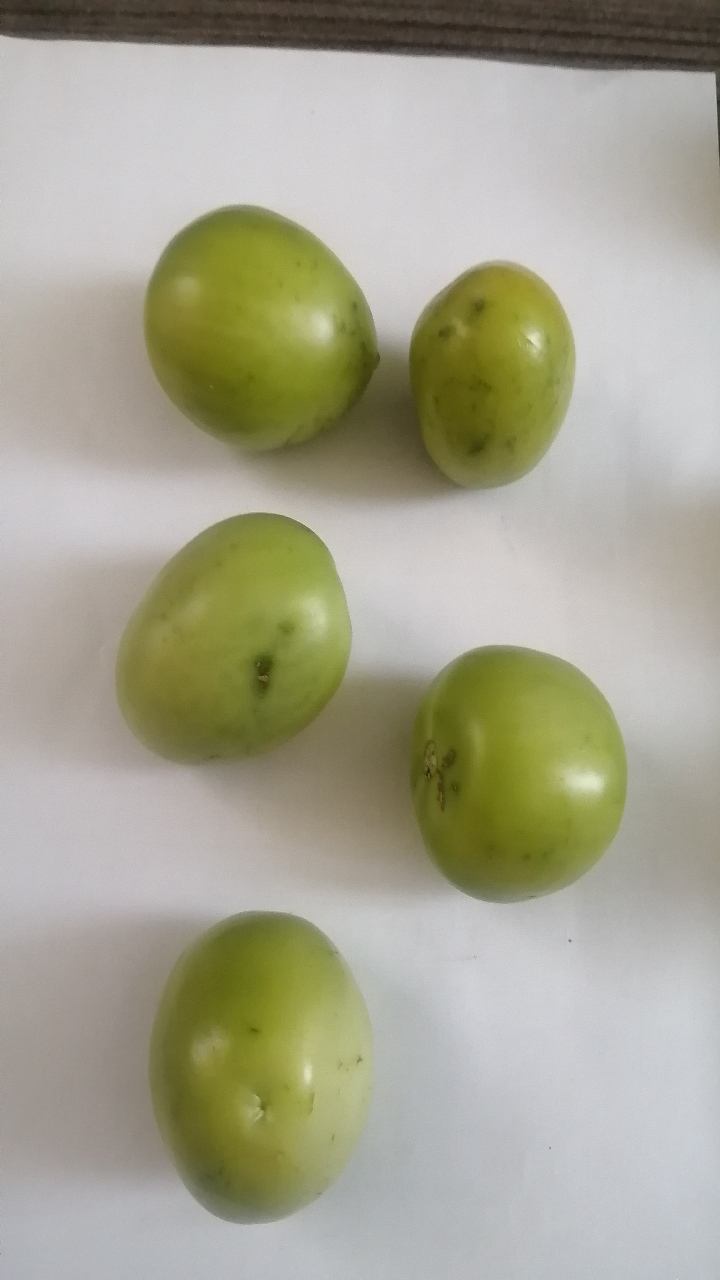tomateVerde: (137, 892, 383, 1237), (98, 486, 378, 782), (129, 186, 389, 466), (401, 632, 631, 912), (386, 226, 598, 514)
